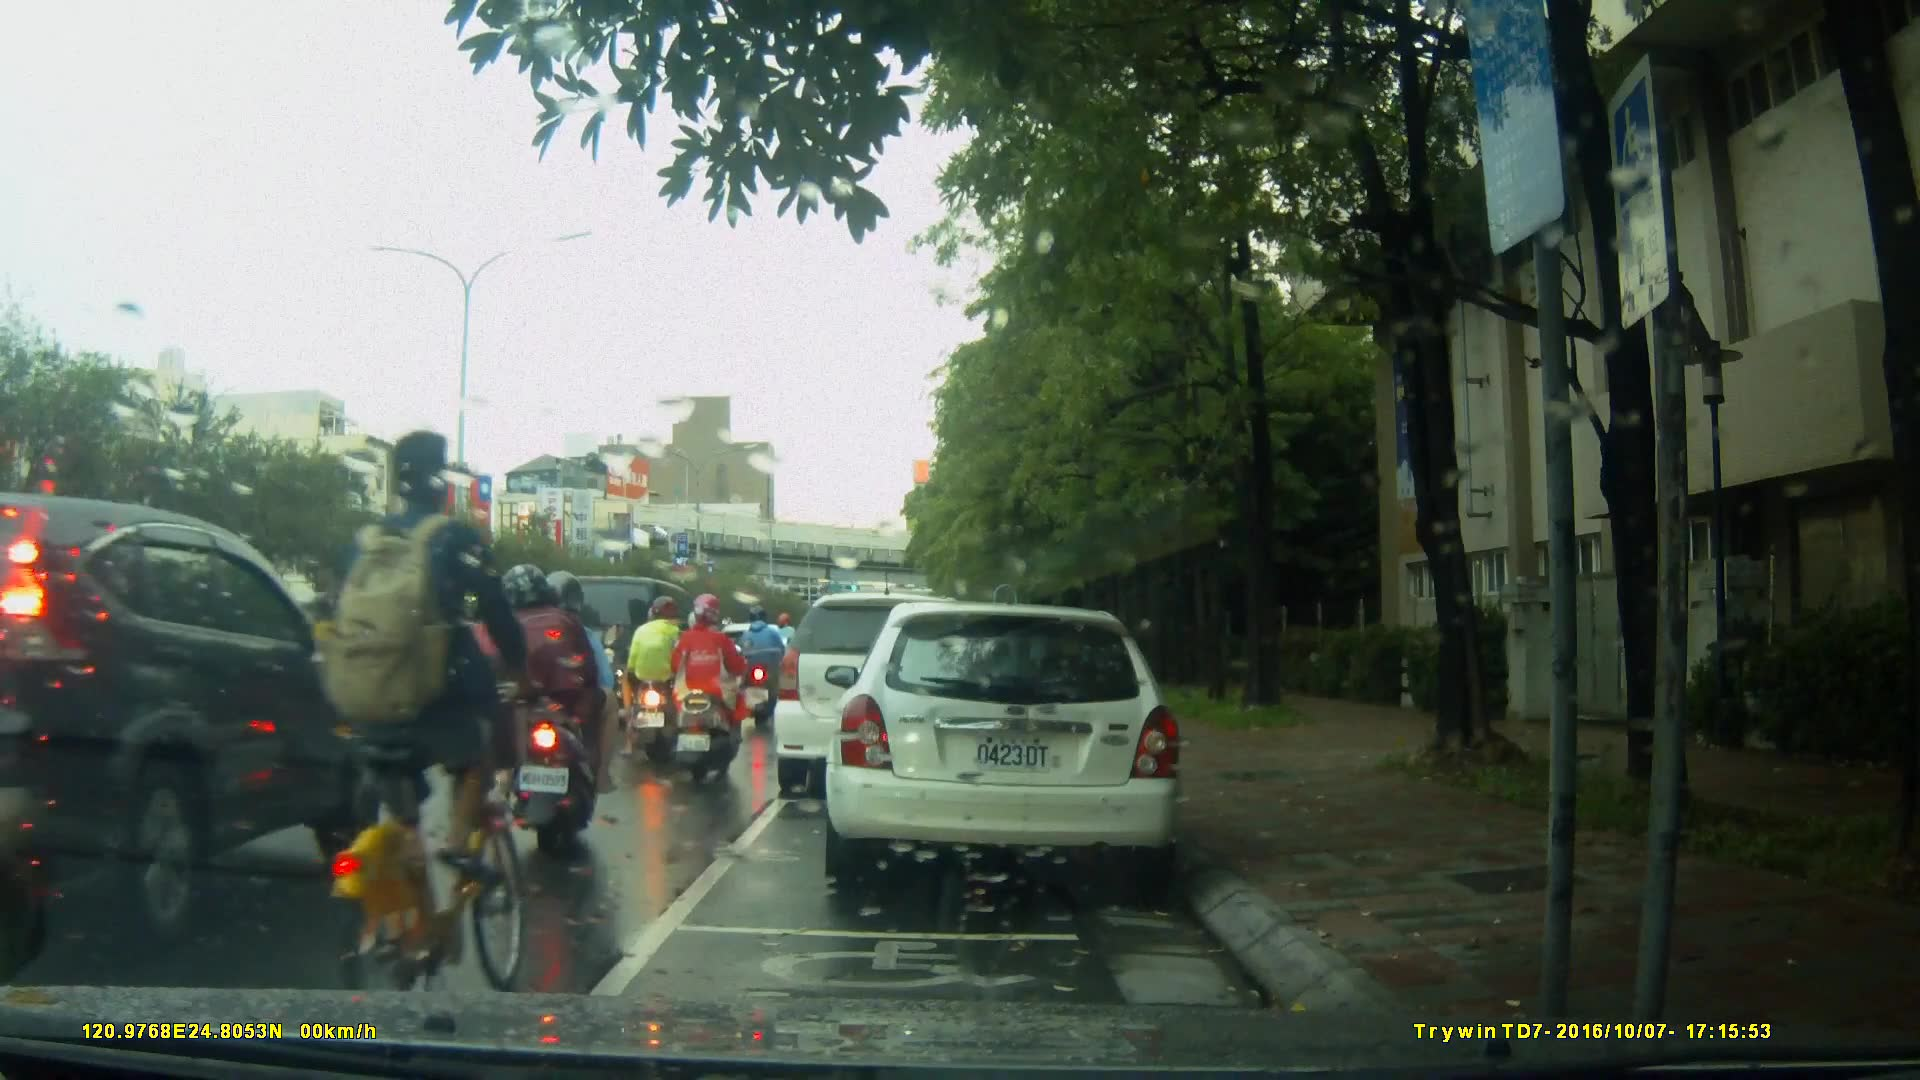rider: (315, 429, 547, 1027), (501, 567, 619, 855), (666, 595, 744, 785), (626, 599, 702, 763), (454, 599, 521, 735), (668, 601, 739, 732), (741, 598, 792, 729)
vehicle: (2, 496, 396, 955), (822, 604, 1188, 883), (774, 595, 995, 802), (291, 610, 506, 729)
